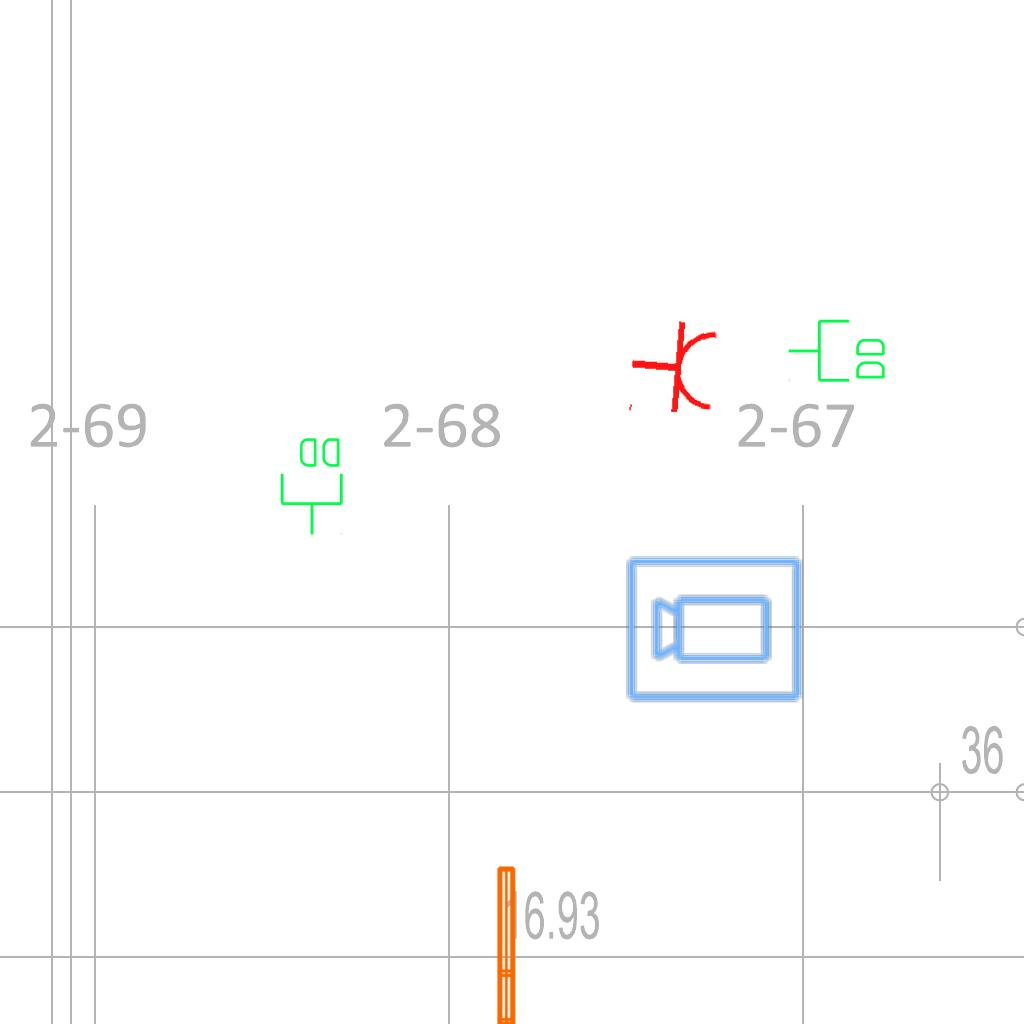Ambulanz_Pendelleuchte_LED: (491, 861, 547, 1024)
Datenanschluss_zweifach: (786, 317, 889, 386), (278, 434, 347, 537)
KFO_Kamera_mit_Festobjektiv: (624, 551, 806, 705)
Schukosteckdose_einfach: (625, 315, 722, 423)
